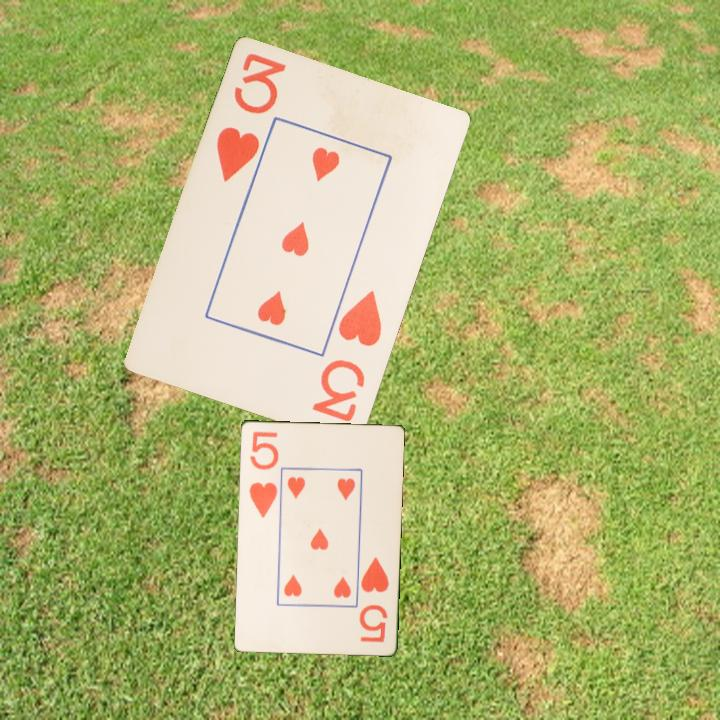3h: (309, 287, 385, 426), (213, 50, 290, 186)
5h: (246, 428, 281, 520), (356, 553, 391, 645)
